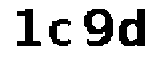1: (10, 5, 42, 50)
9: (80, 8, 112, 50)
c: (45, 17, 75, 47)
d: (115, 7, 148, 48)
